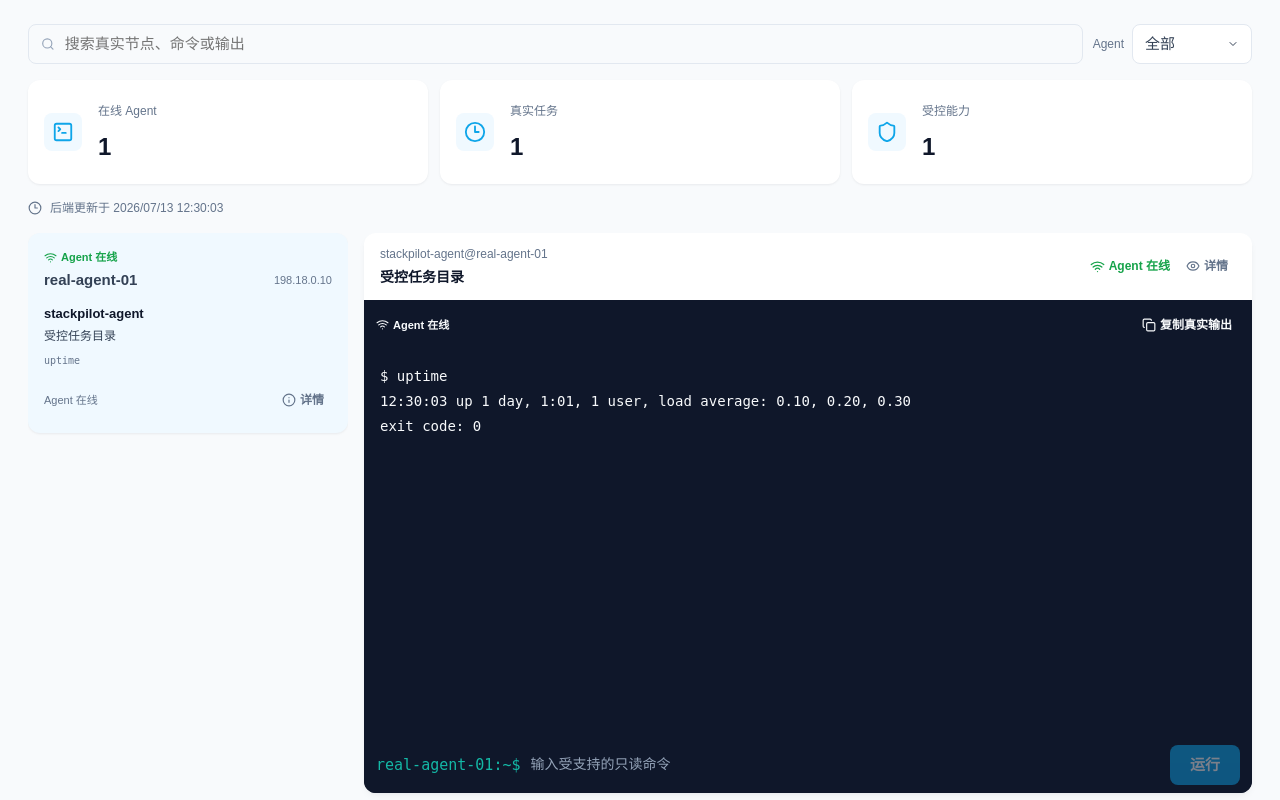
it: terminal sessions page › opens real Agent details in a body-level modal drawer
The width and height of the screenshot is (1280, 800).
Click the button with aria-label "查看 real-agent-01 目标详情" at (303, 400), box [274,383,332,417]
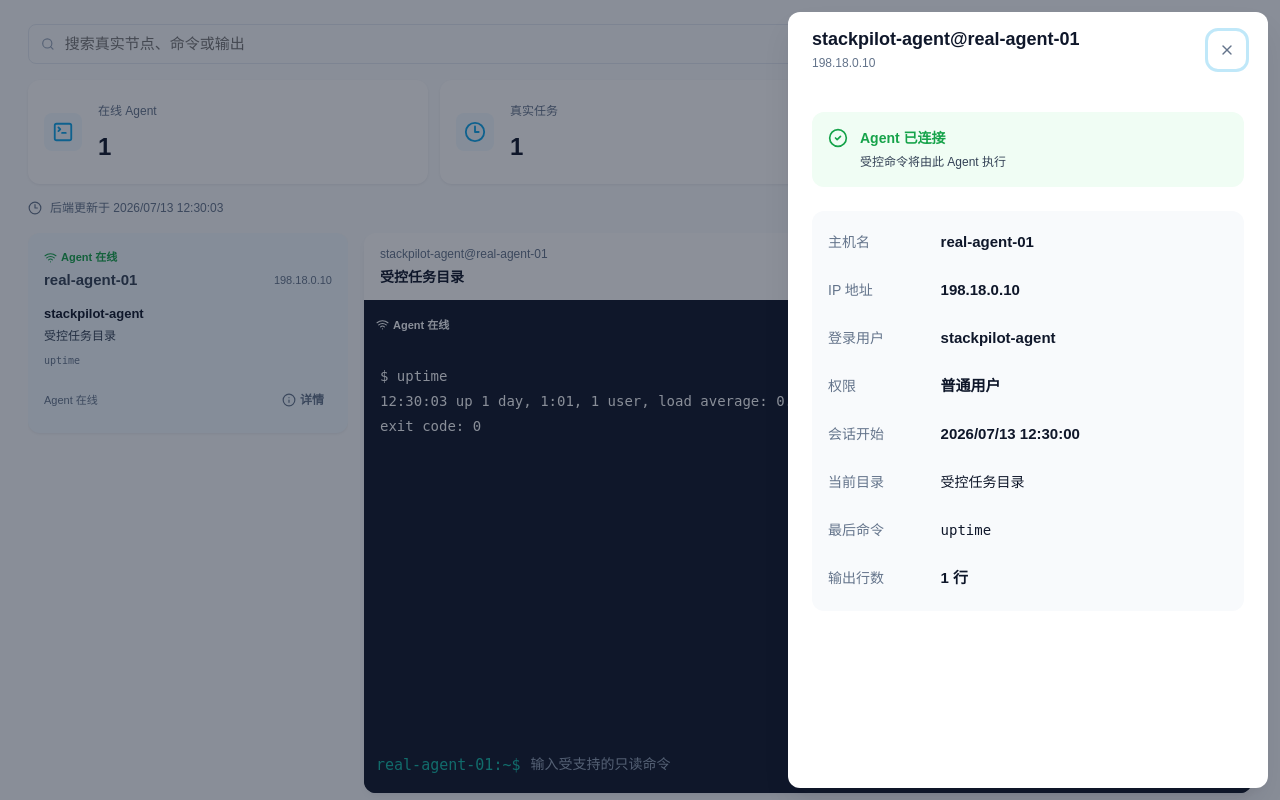
Now the text "Agent 已连接" is shown, box [860,130,946,146]
Now the text "198.18.0.10" is shown 2 times, box [812,56,875,70]; [941,281,1020,298]
Now the text "受控任务目录" is shown, box [941,474,1025,490]
